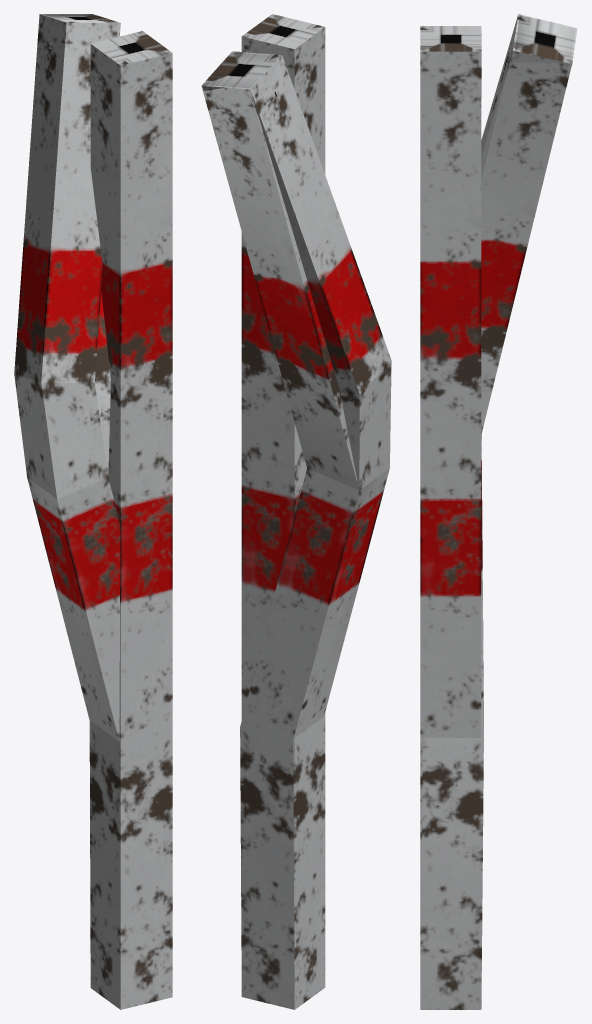
Rendered from VOGD_M_CITY_BOLLARD_001.FBX.
3 views of the same model, side by side, from view 1: azimuth 30°, elevation 25°; view 2: azimuth 150°, elevation 25°; view 3: azimuth 270°, elevation 25° (orthographic).
Parts seen in each view (by area): view 1: LOD1_D0, LOD0_D0, LOD1_D1, LOD2_D0, LOD0_D1, LOD0_D2, LOD2_D1; view 2: LOD1_D1, LOD0_D1, LOD0_D0, LOD2_D1, LOD1_D0, LOD2_D0, LOD0_D2; view 3: LOD1_D0, LOD0_D0, LOD1_D1, LOD2_D1, LOD2_D0, LOD0_D1, LOD0_D2.
Boxes of the visible parts, x1,y1,x2,y2 form: LOD1_D0: (90,31,172,1009); LOD0_D0: (91,31,171,1009); LOD1_D1: (14,14,120,953); LOD2_D0: (90,32,172,1006); LOD0_D1: (15,14,120,857); LOD0_D2: (30,478,120,818); LOD2_D1: (43,14,119,474); LOD1_D1: (227,51,391,1009); LOD0_D1: (201,51,390,1004); LOD0_D0: (242,15,324,1009); LOD2_D1: (201,51,358,489); LOD1_D0: (241,14,325,1009); LOD2_D0: (241,15,325,1003); LOD0_D2: (241,724,293,1005); LOD1_D0: (420,26,481,1008); LOD0_D0: (420,26,481,932); LOD1_D1: (420,14,577,1009); LOD2_D1: (481,15,575,434); LOD2_D0: (420,26,481,996); LOD0_D1: (421,27,576,1008); LOD0_D2: (421,555,482,1009).
Size of what is drawn, in the model's own units: 7.07 by 7.6 by 51.67.
2 materials, 1 textured.
